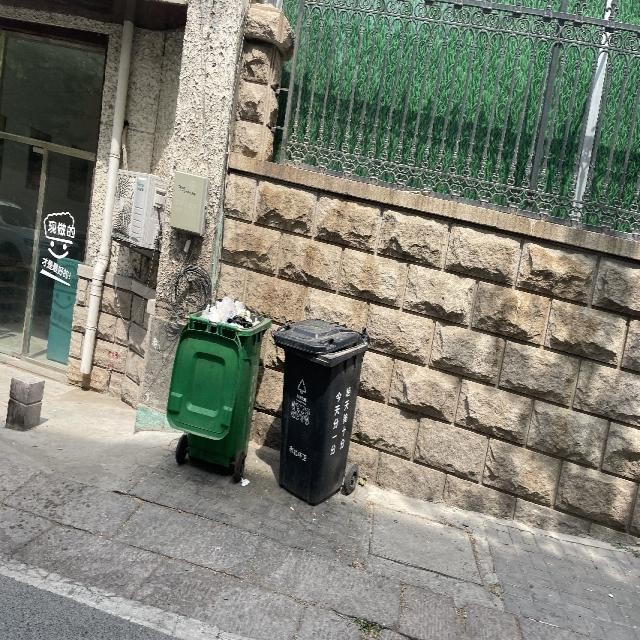garbage_bin: (273, 320, 365, 504)
overflow: (167, 297, 270, 466)
